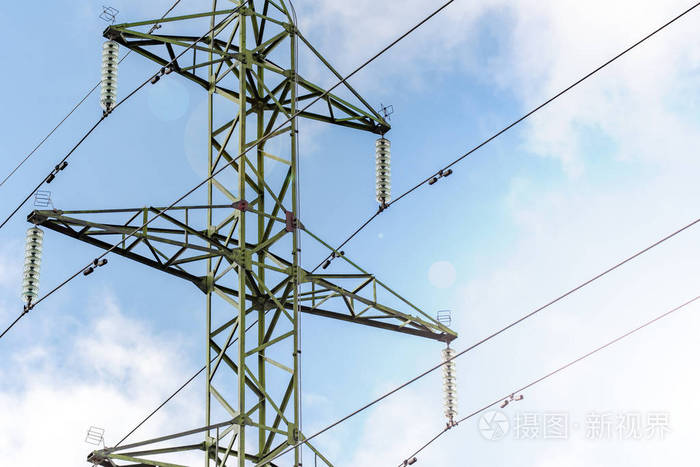insulator: (19, 226, 44, 304), (100, 41, 121, 111), (441, 346, 459, 421), (375, 138, 392, 204)
